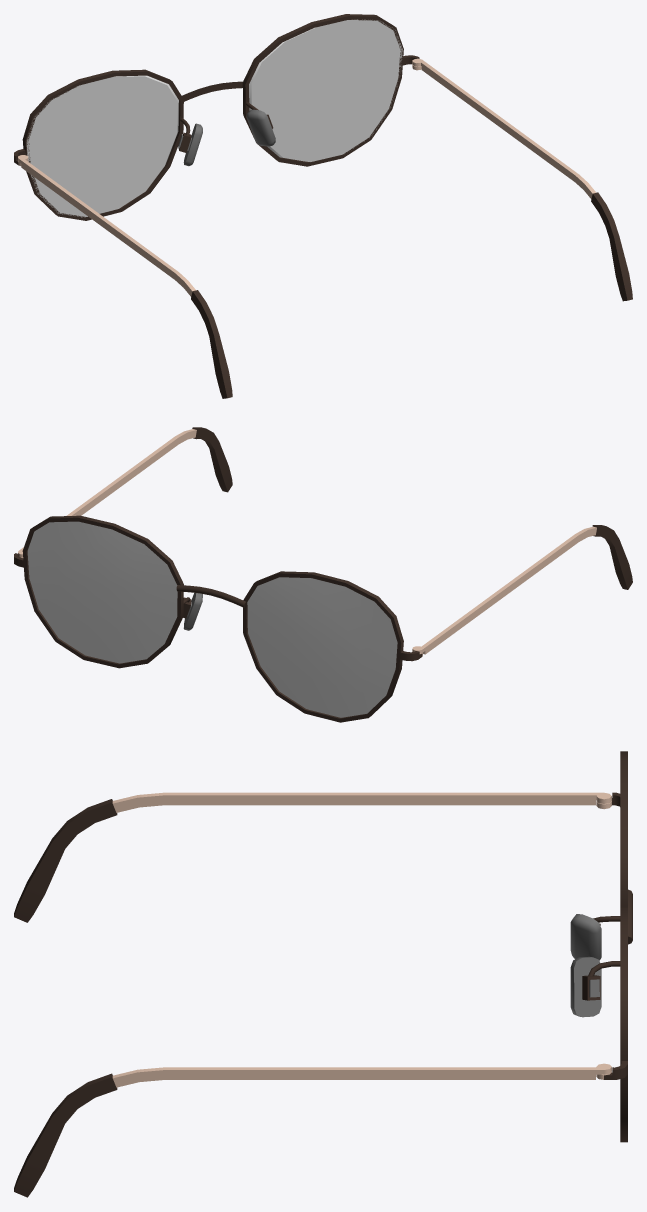
The model's file is glasses4.gltf.
The picture shows the model from 3 angles, top to bottom: view 1: azimuth 30°, elevation 25°; view 2: azimuth 150°, elevation 25°; view 3: azimuth 270°, elevation 25°; orthographic projection. The views are drawn at different scales.
Parts seen in each view (by area): view 1: glasses4; view 2: glasses4; view 3: glasses4.
Part boxes in pixels (x1=…): glasses4: x1=14, y1=14, x2=632, y2=398; glasses4: x1=14, y1=427, x2=632, y2=722; glasses4: x1=14, y1=751, x2=632, y2=1197.
Size of the model in its own units: 1.54 by 0.5289 by 1.44.
